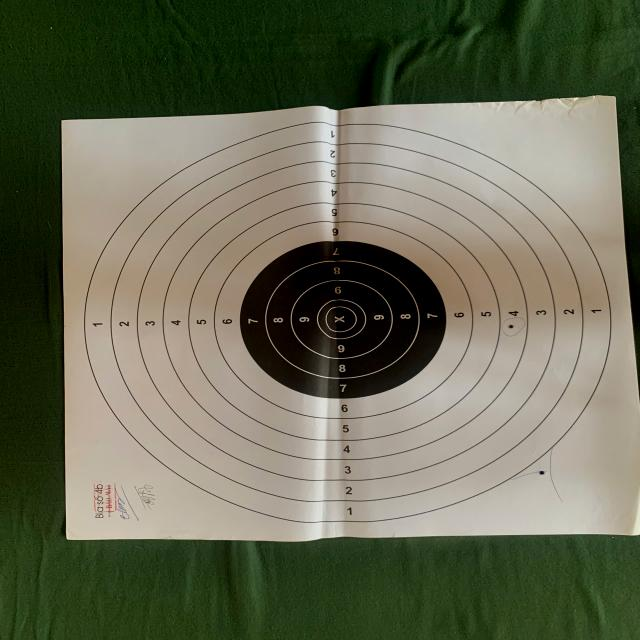bullet: (344, 404, 348, 412), (508, 324, 515, 328), (539, 471, 545, 475)
target: (60, 100, 628, 540)
